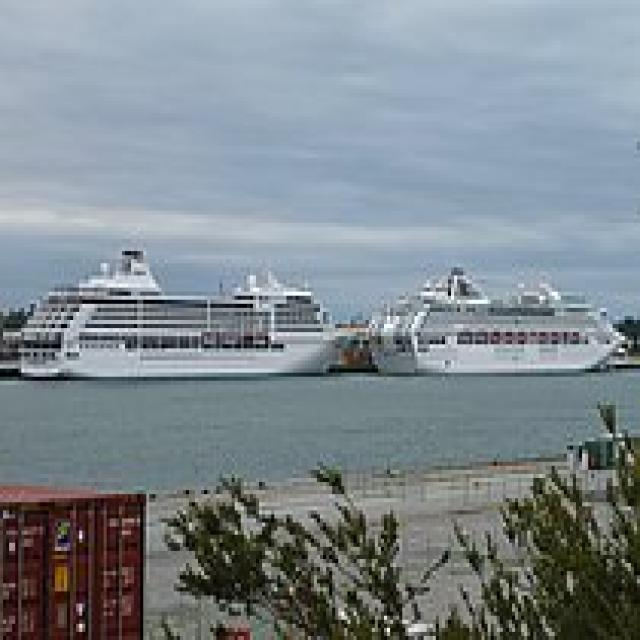Ship: (10, 232, 352, 390), (363, 252, 640, 394)
